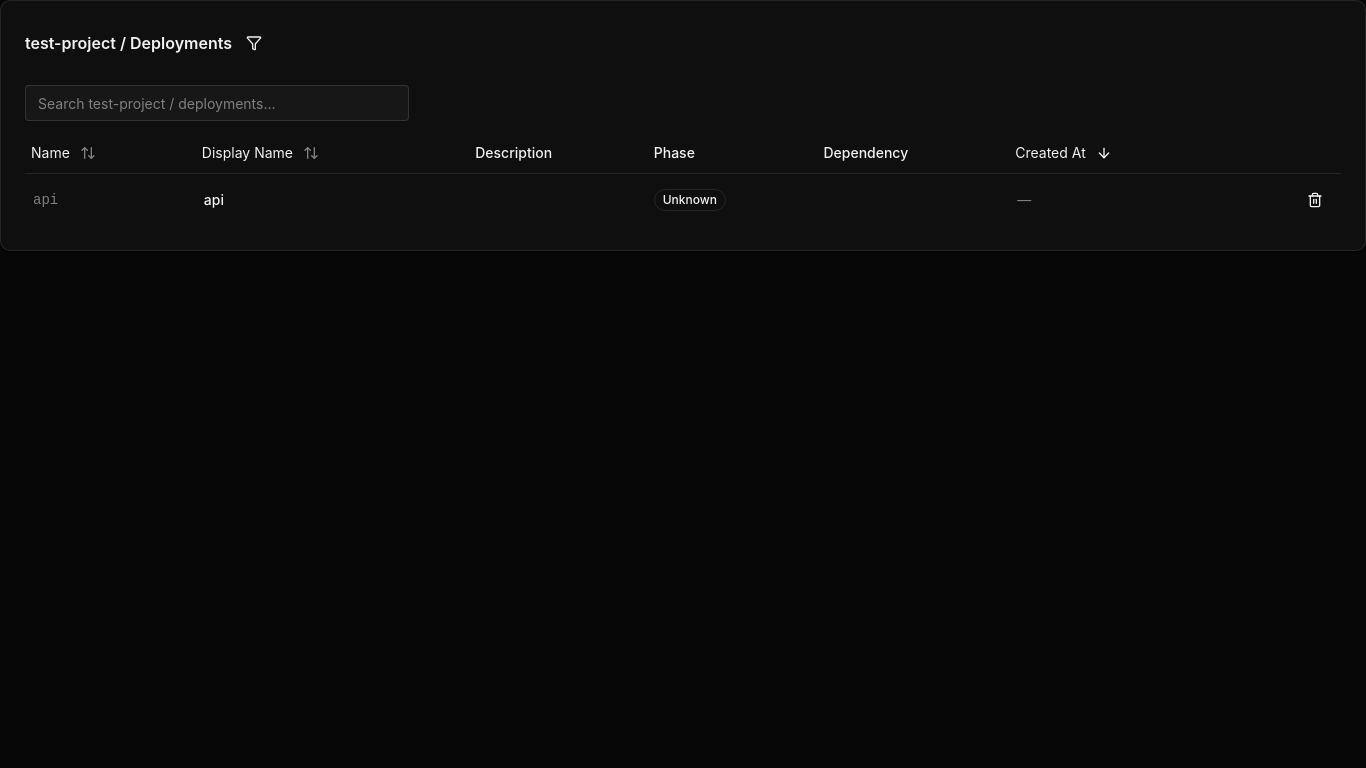
Test: DeploymentsListPage (ResourceGrid v1) › delete button opens ConfirmDeleteDialog
Click the button named "delete api" at (1315, 200), box [1297,182,1333,218]
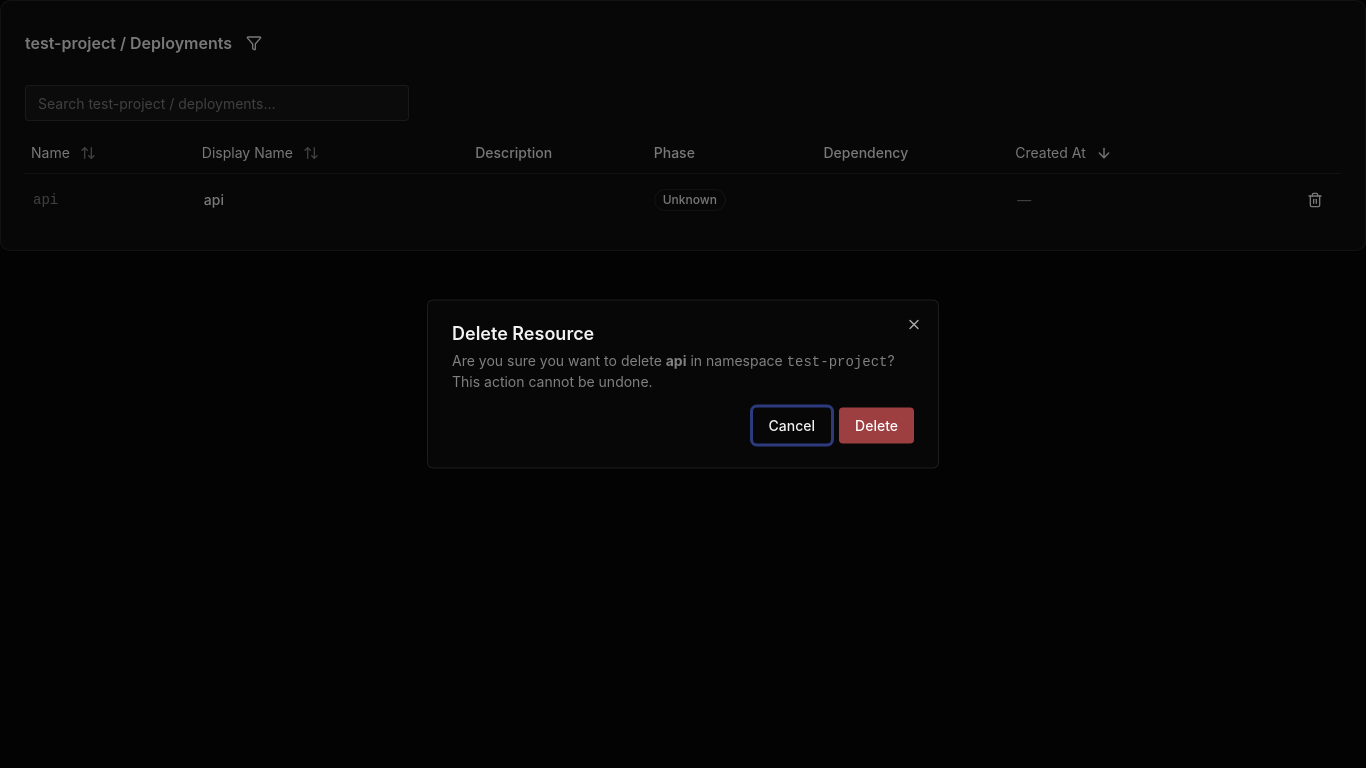
Expected: the dialog is shown, [427,300,939,468]
